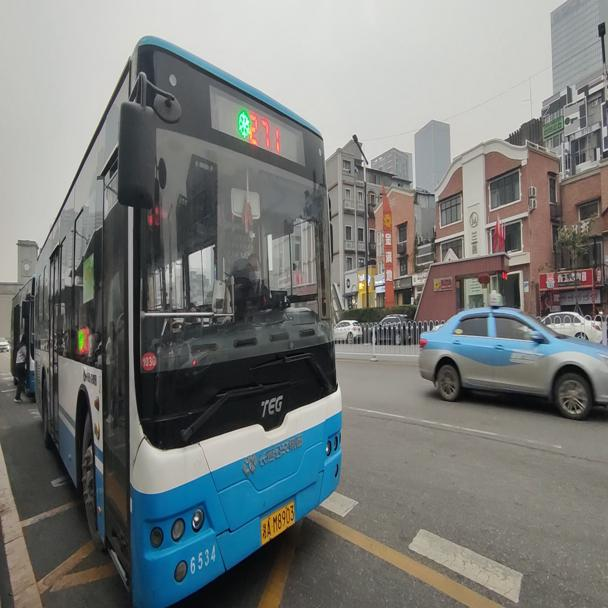bus: (35, 36, 342, 603)
screen: (249, 100, 280, 153)
